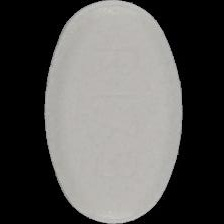61786-505: (0, 0, 224, 224)
